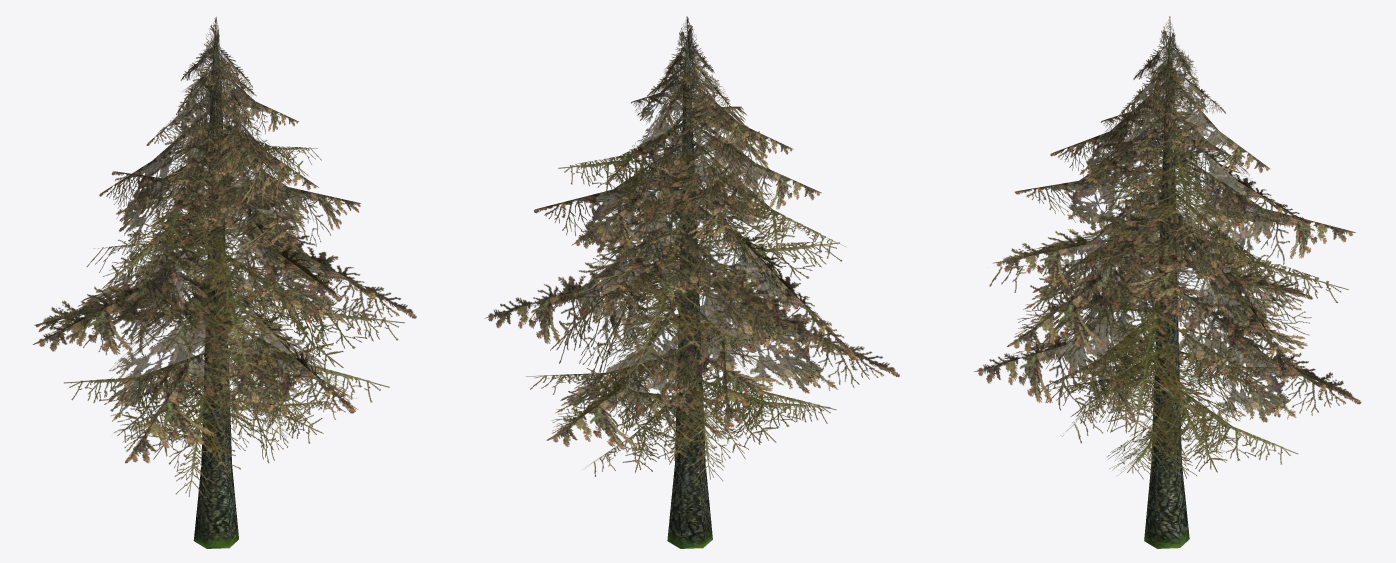
The model's file is tree4_10s.glb.
3 renders of one model, left to right at view 1: azimuth 30°, elevation 25°; view 2: azimuth 150°, elevation 25°; view 3: azimuth 270°, elevation 25°, orthographic.
Parts seen in each view (by area): view 1: tree4_10s; view 2: tree4_10s; view 3: tree4_10s.
Part boxes in pixels (box(x1,y1,x2,y2)): tree4_10s: box(33, 17, 416, 548); tree4_10s: box(484, 16, 899, 548); tree4_10s: box(974, 16, 1361, 548).
Bounding box in the file's own units: 12.4 × 15.89 × 11.78.
Materials: 3 (3 with a texture image).
